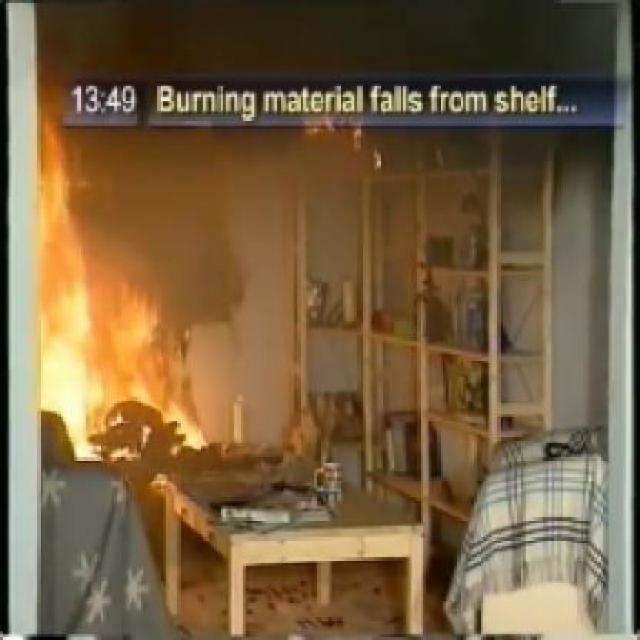fire: (37, 137, 171, 409)
